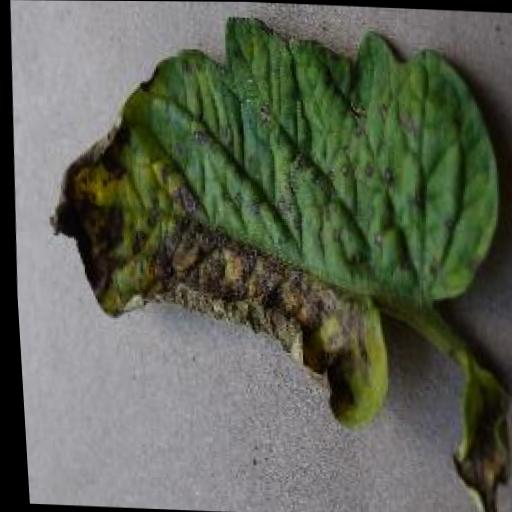Early Blight: (20, 7, 512, 512)
